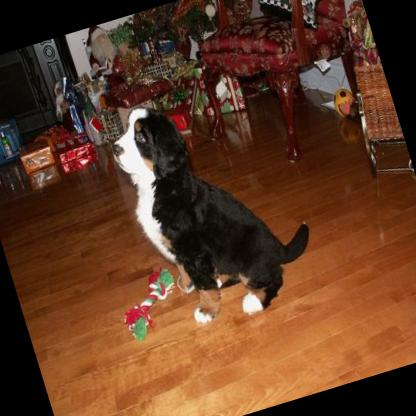Bernese_mountain_dog: (100, 66, 328, 338)
